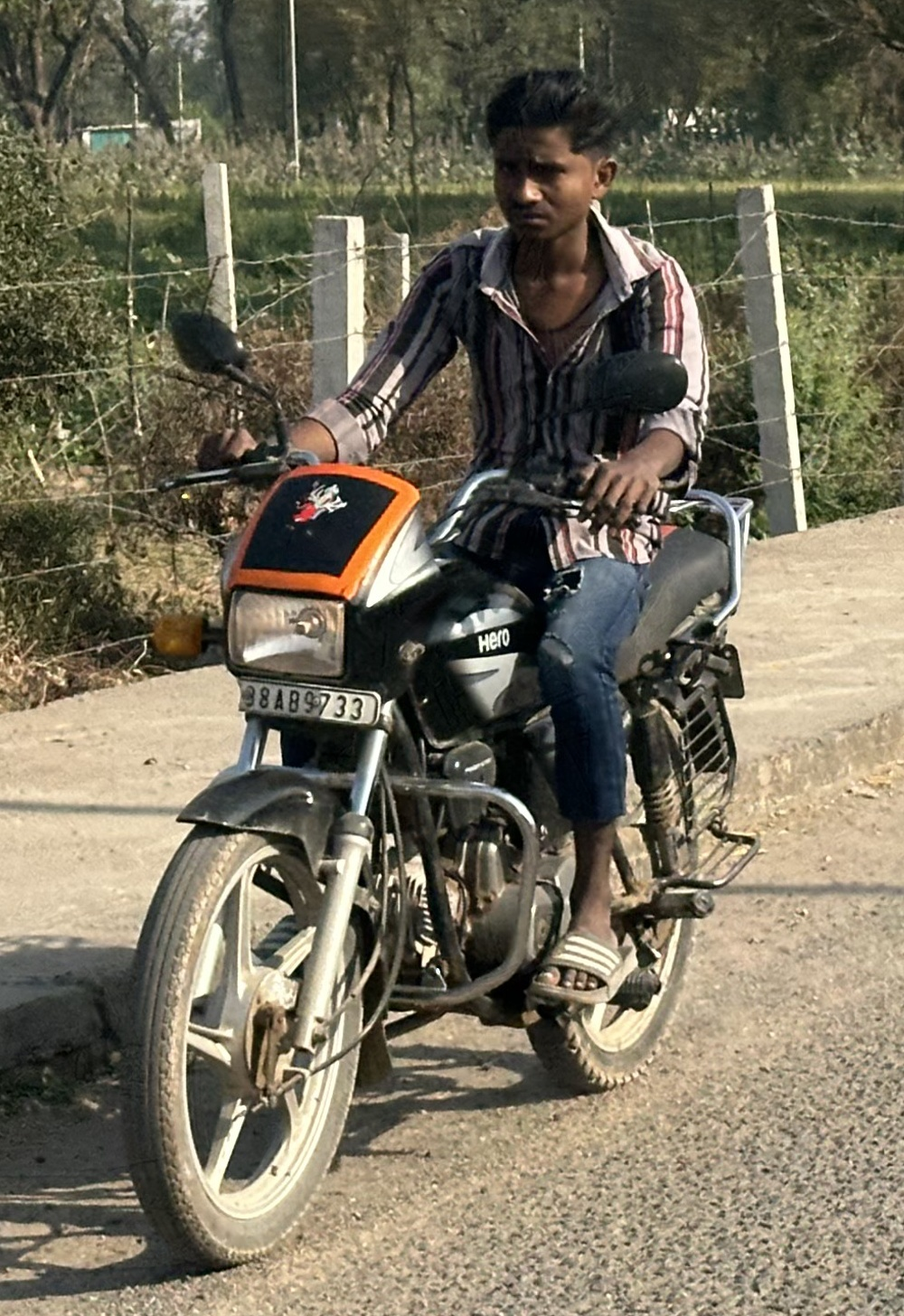BikeWithRider: (99, 52, 778, 1284)
NoHelmet: (460, 58, 638, 264)
